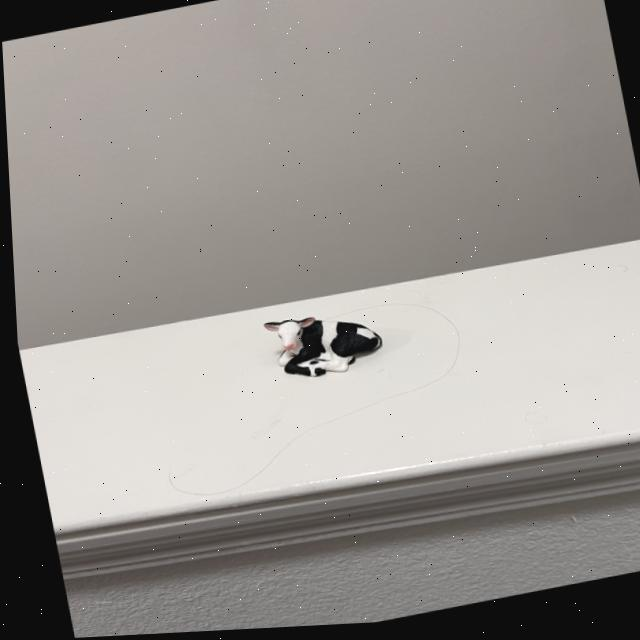cow: (260, 311, 381, 385)
